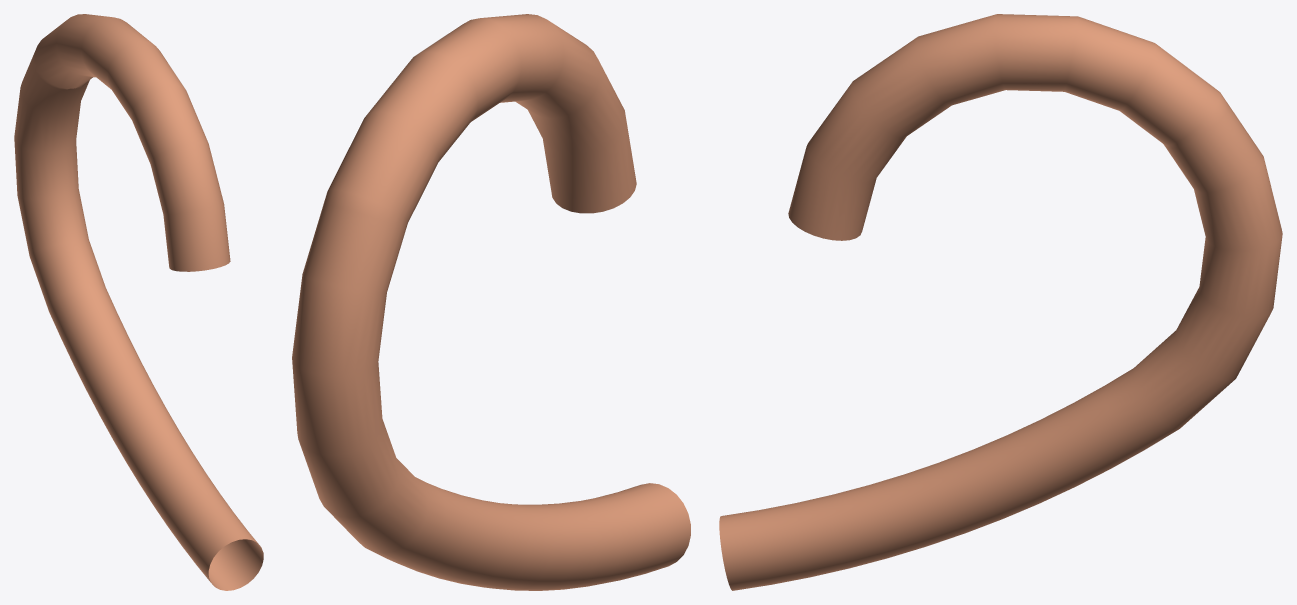
File: original-1.obj
3 views of the same model, side by side, from view 1: azimuth 30°, elevation 25°; view 2: azimuth 150°, elevation 25°; view 3: azimuth 270°, elevation 25° (orthographic). The views are drawn at different scales.
Visible parts, largest first — view 1: Group1/mesh1/mesh1-geometry#mesh1-geometry; view 2: Group1/mesh1/mesh1-geometry#mesh1-geometry; view 3: Group1/mesh1/mesh1-geometry#mesh1-geometry.
Part boxes in pixels (x1=…): Group1/mesh1/mesh1-geometry#mesh1-geometry: x1=14, y1=14, x2=263, y2=590; Group1/mesh1/mesh1-geometry#mesh1-geometry: x1=292, y1=14, x2=690, y2=590; Group1/mesh1/mesh1-geometry#mesh1-geometry: x1=719, y1=14, x2=1282, y2=590.
Size of the model in its own units: 0.1106 by 0.6813 by 0.604.
